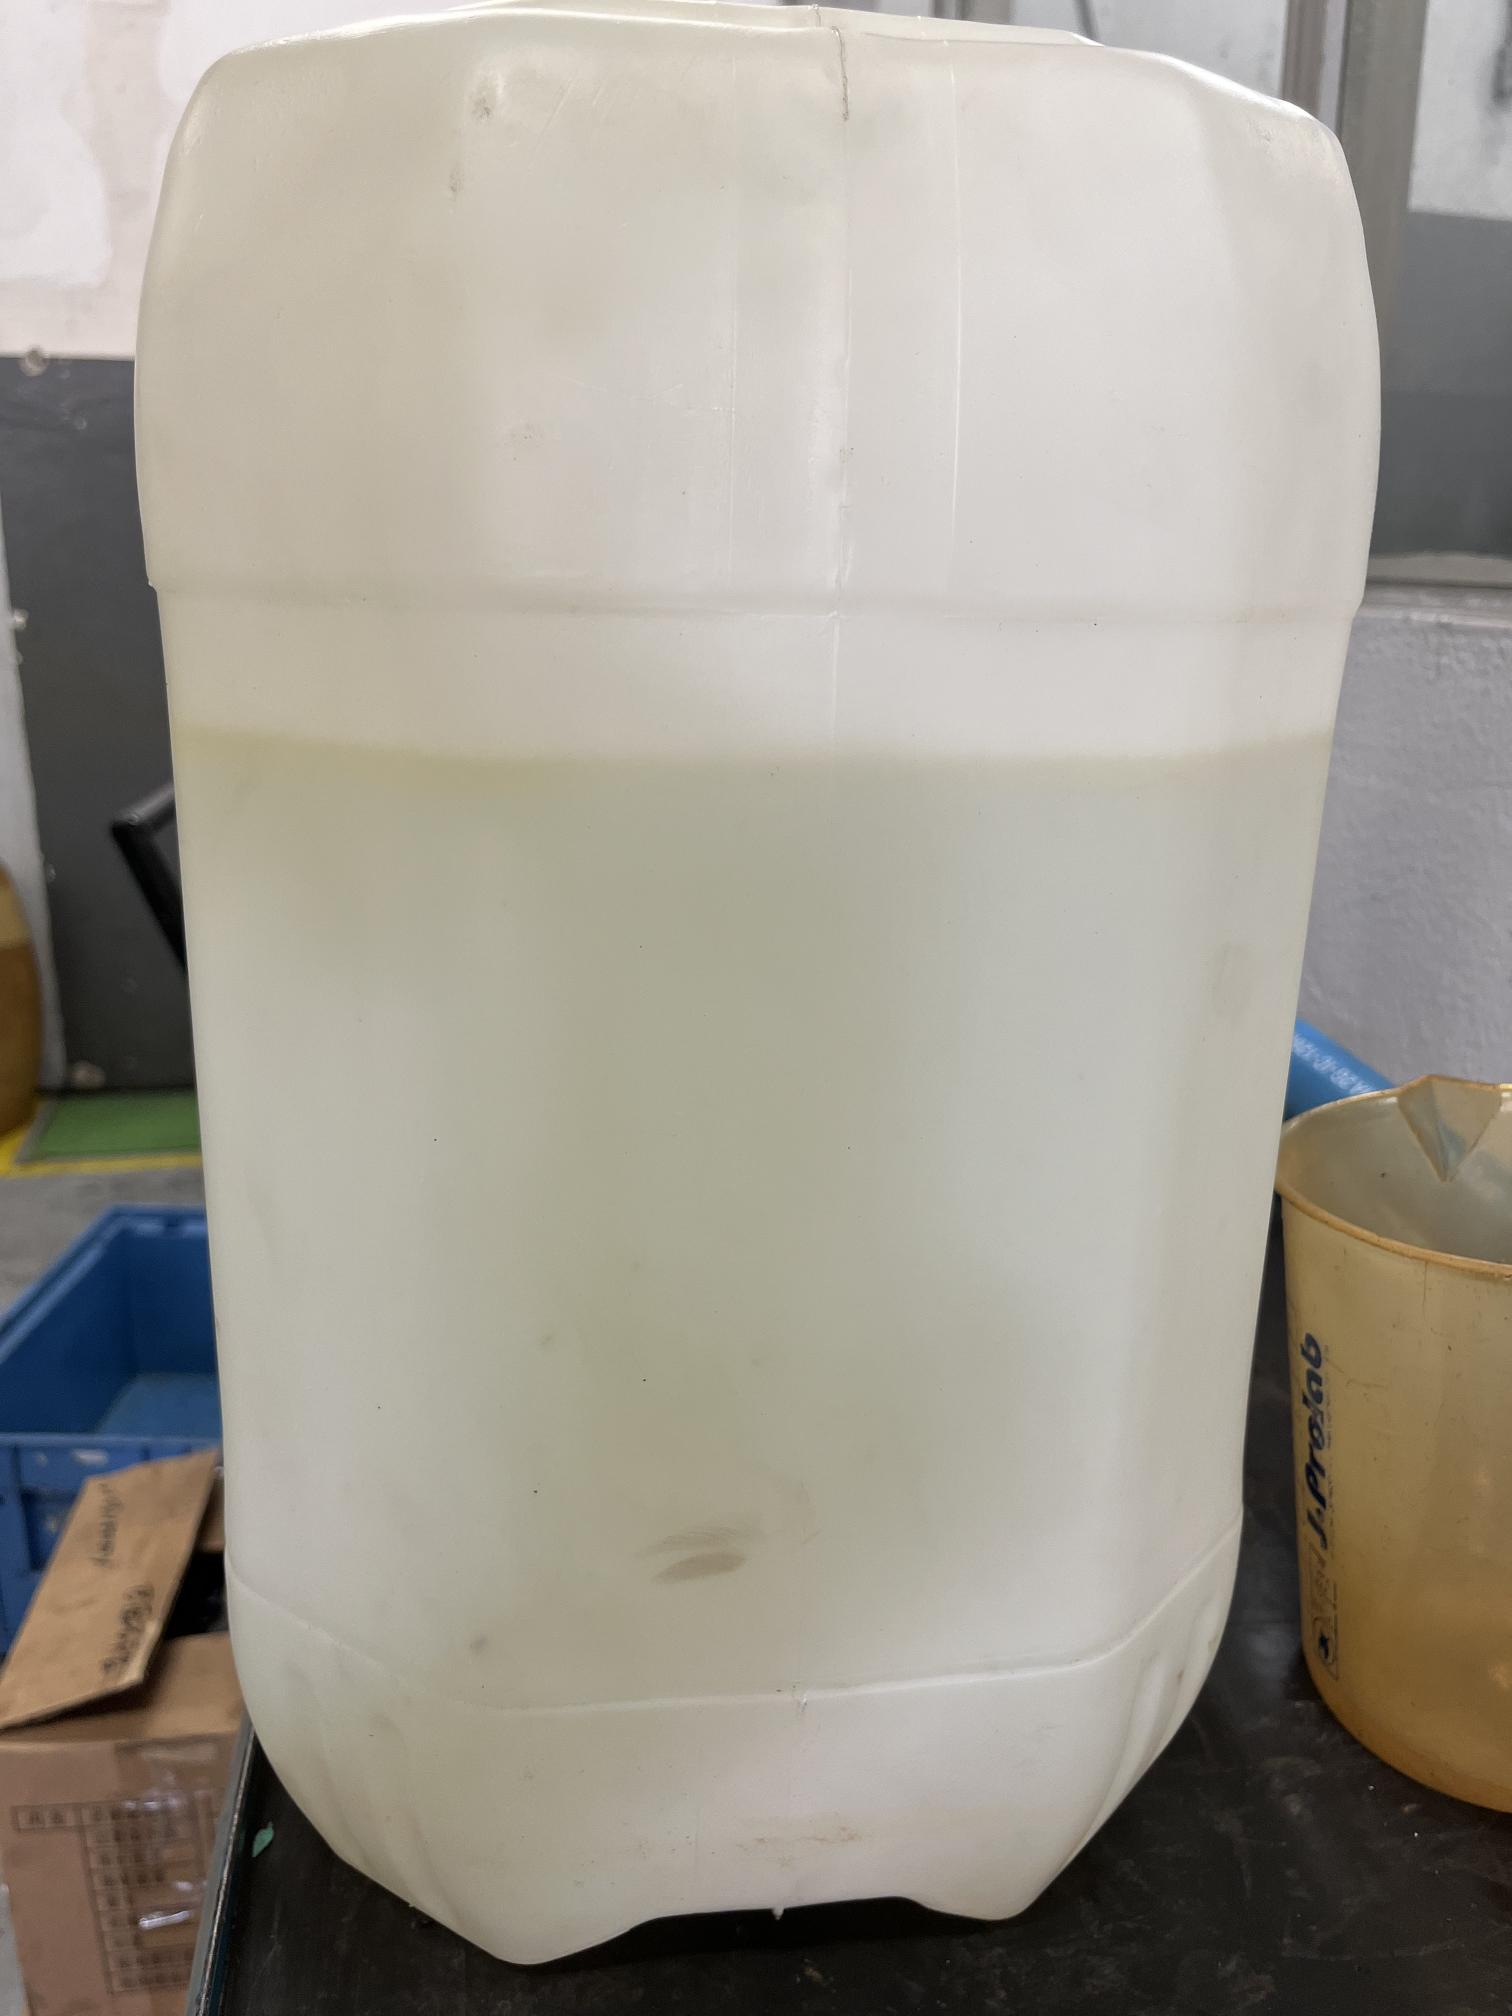Galao: (121, 60, 1445, 1935)
